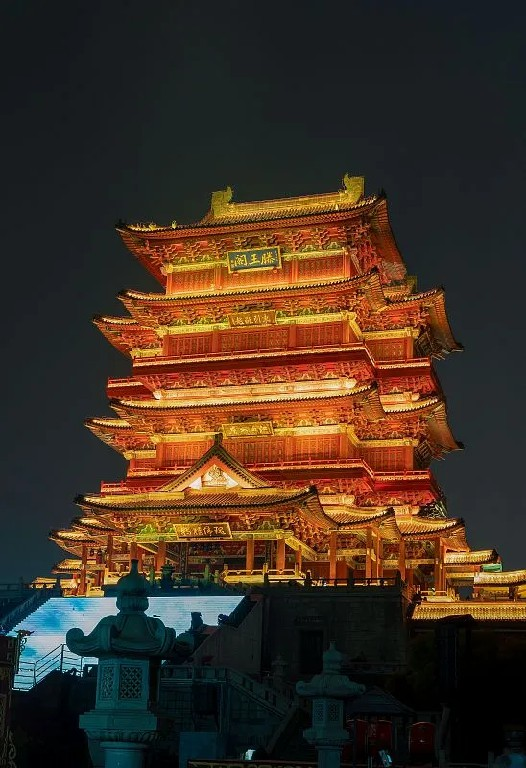Teng: (49, 171, 501, 589)
